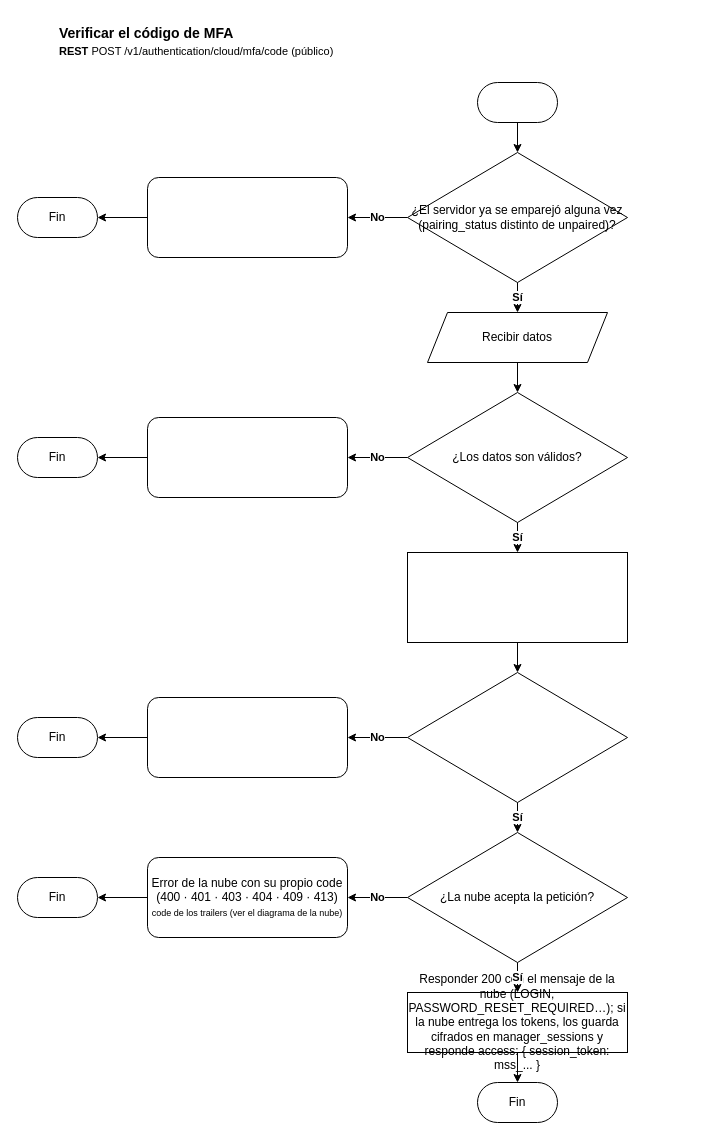
The diagram is 715 pixels wide and 1140 high, and some of its shapes have lost their labels. Each missing label, with the centre of its shape:
Datos inválidos (400) ERROR_BAD_REQUEST: point 247,457
Inicio: point 517,102
La nube no responde (503) ERROR_CLOUD_UNAVAILABLE · ERROR_SERVER_UNLINKED: point 247,737
Llamar a la nube por gRPC: authentication.mfa_code (con server_token): point 517,597
Servidor sin emparejar (409) ERROR_SERVER_NOT_PAIRED: point 247,217
¿La nube responde antes de 10 s?: point 517,737
